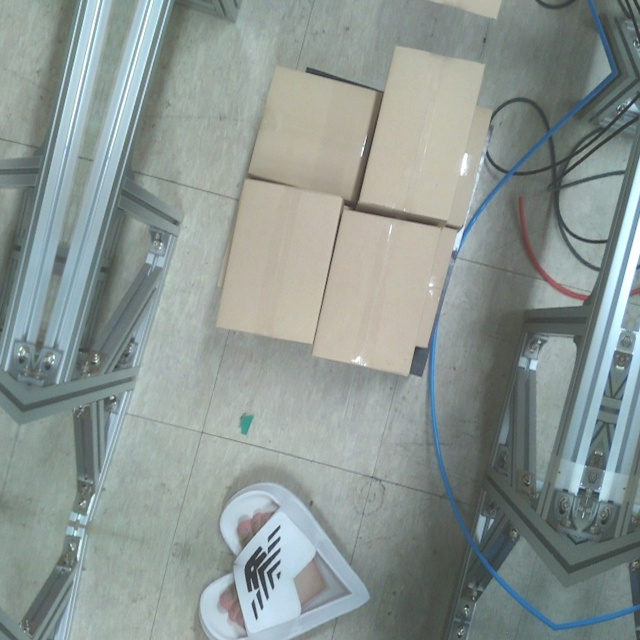box: (356, 43, 488, 224), (308, 204, 442, 378), (214, 177, 346, 346), (245, 64, 379, 202)
